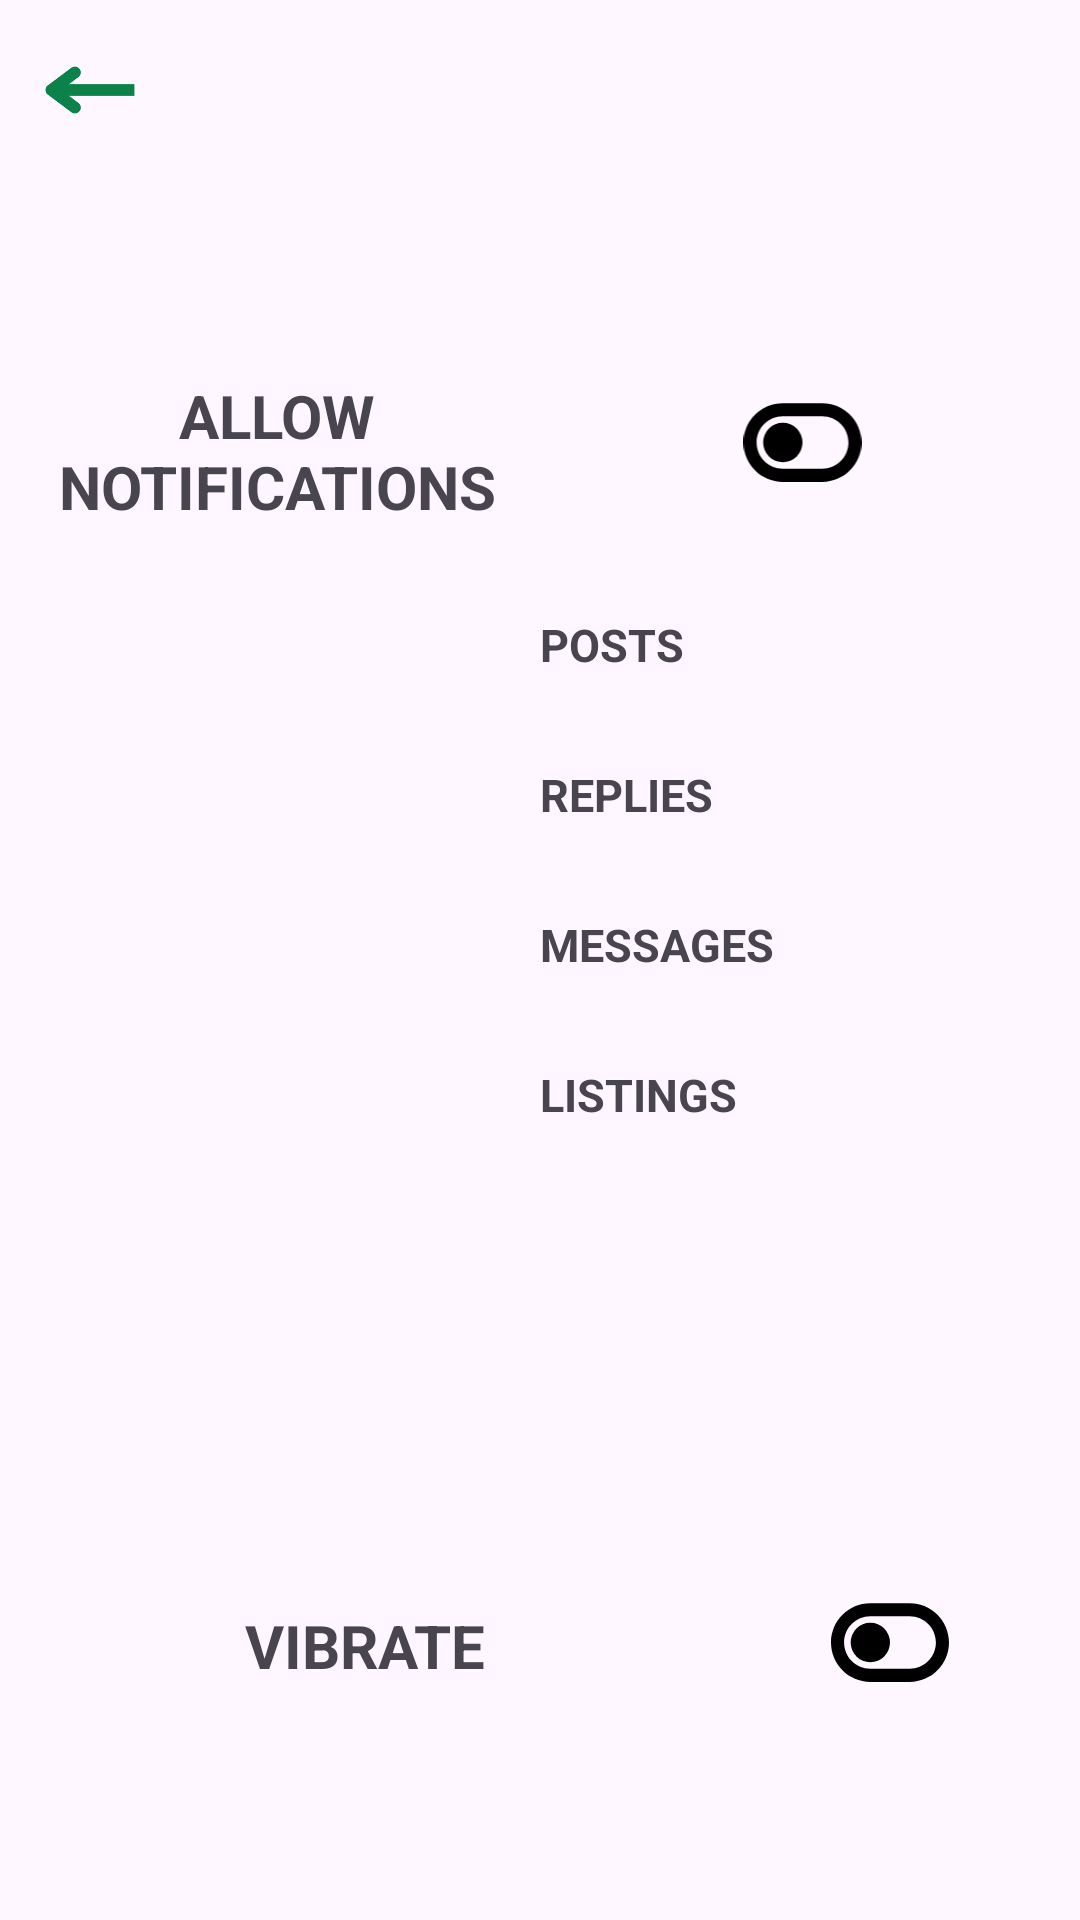

Named icons in this screenshot (1080px x 1920px) and their centers, (x=x, y=y):
back settings: (x=90, y=90)
toggle off: (x=802, y=442), (x=890, y=1642)
